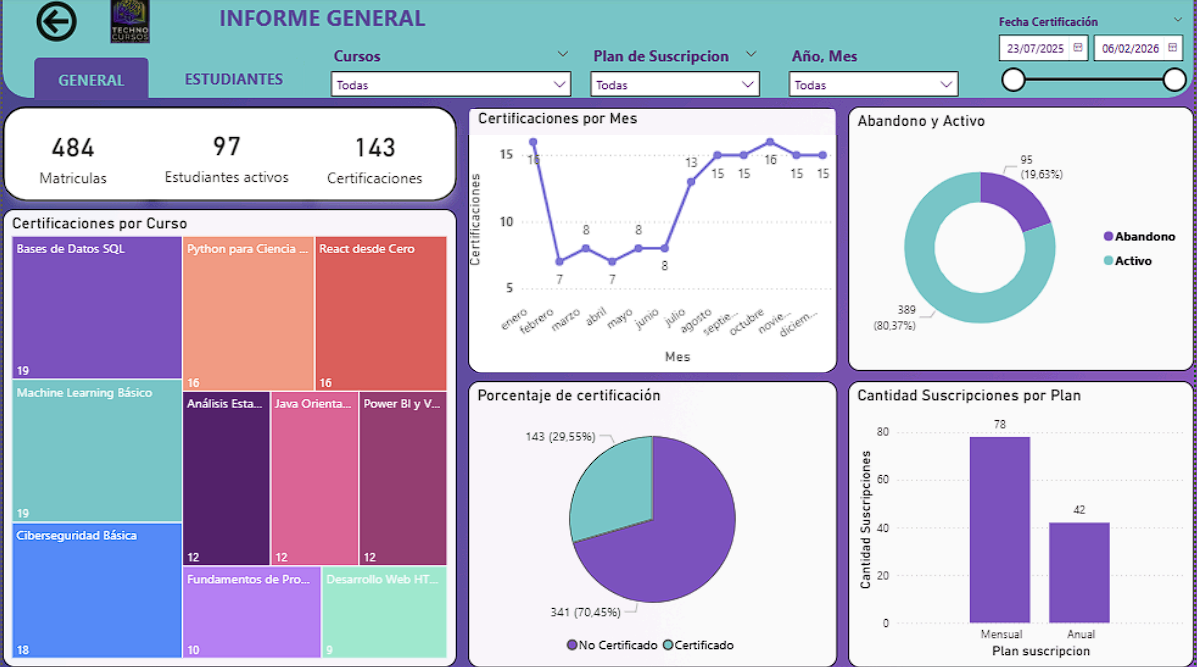

What the dashboard file says about the page in this screenshot:
{"tool":"powerbi","page":{"name":"ANALISIS GENERAL","canvas":[1280,720],"ordinal":1},"visuals":[{"type":"shape","box":[0,118.3,488.3,101.7],"z":0},{"type":"textbox","box":[0,0,16.2,13.2],"z":1000},{"type":"donutChart","fields":{"Y":["plataforma_educativa matricula.Abandono","plataforma_educativa matricula.Activo"]},"box":[918.3,118.3,361.7,284.2],"z":2000},{"type":"pieChart","title":"Porcentaje de certificación","fields":{"Y":["plataforma_educativa matricula.No certificado","CountNonNull(plataforma_educativa certificacion.id_matricula)"]},"box":[918.4,412.9,361.5,307.1],"z":3000},{"type":"columnChart","title":"Cantidad Suscripciones por Plan","fields":{"Category":["plataforma_educativa suscripciones.plan_suscripcion"],"Y":["plataforma_educativa suscripciones.Cantidad Suscripciones"]},"box":[499.6,412.9,402.6,307.1],"z":4000},{"type":"lineChart","fields":{"Category":["plataforma_educativa certificacion.fecha_certificacion.Variación.Jerarquía de fechas.Mes"],"Y":["CountNonNull(plataforma_educativa certificacion.id_matricula)"]},"box":[500,118.6,402.9,284.3],"z":5000},{"type":"treemap","title":"Certificaciones por Curso","fields":{"Group":["plataforma_educativa curso.nombre_curso"],"Values":["CountNonNull(plataforma_educativa certificacion.id_certificacion)"]},"box":[0,227.8,487.8,492.2],"z":6000},{"type":"card","fields":{"Values":["CountNonNull(plataforma_educativa certificacion.id_matricula)"]},"box":[325,126.7,150.8,85.8],"z":7000},{"type":"card","fields":{"Values":["plataforma_educativa suscripciones.Medida"]},"box":[157.5,126.7,167.5,84.2],"z":8000},{"type":"card","fields":{"Values":["CountNonNull(plataforma_educativa matricula.id_matricula)"]},"box":[2.5,126.7,145.8,85],"z":9000},{"type":"shape","box":[0,0,1280,108.6],"z":10000},{"type":"slicer","fields":{"Values":["plataforma_educativa suscripciones.plan_suscripcion"]},"box":[621.7,46.7,201.7,61.7],"z":11000},{"type":"slicer","fields":{"Values":["plataforma_educativa curso.nombre_curso"]},"box":[343.3,46.7,278.3,60],"z":12000},{"type":"slicer","fields":{"Values":["plataforma_educativa certificacion.fecha_certificacion"]},"box":[1057.1,12.9,222.9,95.7],"z":13000},{"type":"slicer","fields":{"Values":["plataforma_educativa certificacion.fecha_certificacion.Variación.Jerarquía de fechas.Año","plataforma_educativa certificacion.fecha_certificacion.Variación.Jerarquía de fechas.Mes"]},"box":[835.8,46.7,201.7,61.7],"z":14000},{"type":"textbox","box":[157.1,0,372.9,42.9],"z":15000},{"type":"actionButton","box":[30.8,0,54.6,53.1],"z":16000},{"type":"actionButton","box":[173.3,65,151.7,43.3],"z":17000},{"type":"image","box":[75.7,0,121.4,50],"z":18000},{"type":"actionButton","box":[34.3,65.7,122.9,45.7],"z":19000}]}

Visuals, with their boxes in screenshot pixels (x1, y1, x2, y2), scaled from the page's 1280x720 canvas onto the 1197x667 screenshot:
shape: l=0, t=110, r=457, b=204
textbox: l=0, t=0, r=15, b=12
donutChart - plataforma_educativa matricula.Abandono x plataforma_educativa matricula.Activo: l=859, t=110, r=1196, b=373
"Porcentaje de certificación" pieChart: l=859, t=383, r=1196, b=666
"Cantidad Suscripciones por Plan" columnChart: l=467, t=383, r=844, b=666
lineChart - plataforma_educativa certificacion.fecha_certificacion.Variación.Jerarquía de fechas.Mes x CountNonNull(plataforma_educativa certificacion.id_matricula): l=468, t=110, r=844, b=373
"Certificaciones por Curso" treemap: l=0, t=211, r=456, b=666
card - CountNonNull(plataforma_educativa certificacion.id_matricula): l=304, t=117, r=445, b=197
card - plataforma_educativa suscripciones.Medida: l=147, t=117, r=304, b=195
card - CountNonNull(plataforma_educativa matricula.id_matricula): l=2, t=117, r=139, b=196
shape: l=0, t=0, r=1196, b=101
slicer - plataforma_educativa suscripciones.plan_suscripcion: l=581, t=43, r=770, b=100
slicer - plataforma_educativa curso.nombre_curso: l=321, t=43, r=581, b=99
slicer - plataforma_educativa certificacion.fecha_certificacion: l=989, t=12, r=1196, b=101
slicer - plataforma_educativa certificacion.fecha_certificacion.Variación.Jerarquía de fechas.Año x plataforma_educativa certificacion.fecha_certificacion.Variación.Jerarquía de fechas.Mes: l=782, t=43, r=970, b=100
textbox: l=147, t=0, r=496, b=40
actionButton: l=29, t=0, r=80, b=49
actionButton: l=162, t=60, r=304, b=100
image: l=71, t=0, r=184, b=46
actionButton: l=32, t=61, r=147, b=103
